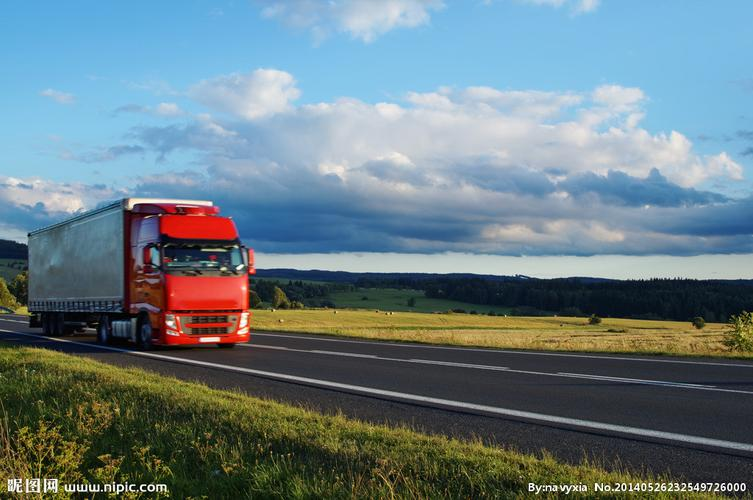卡车: (16, 193, 272, 353)
